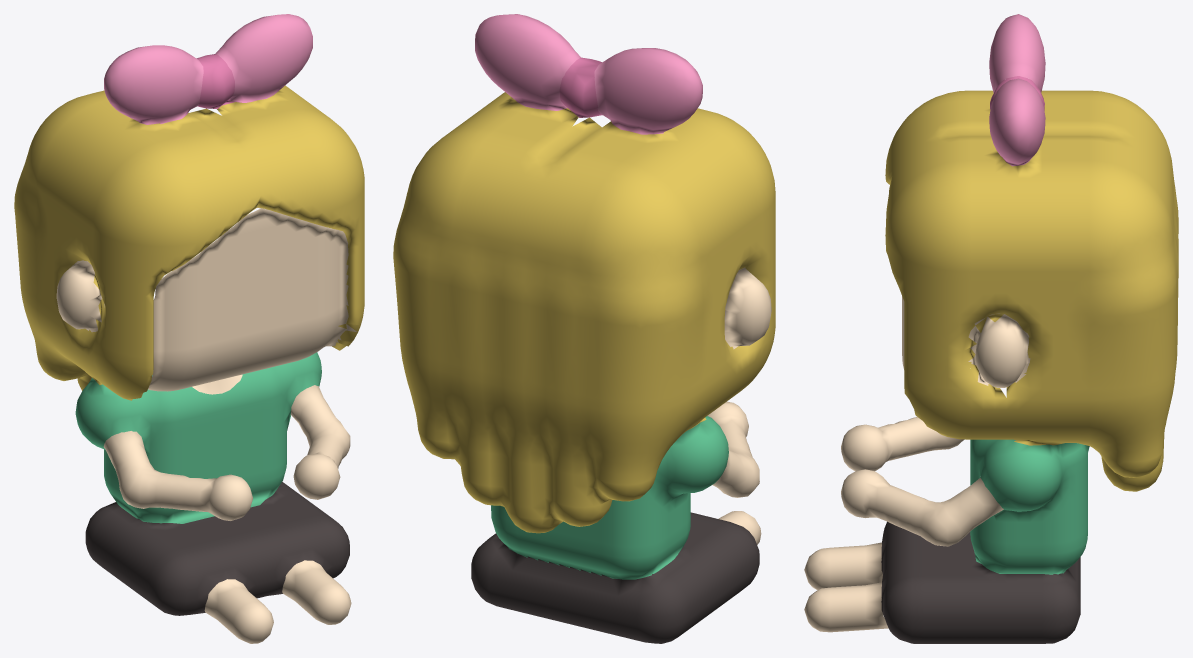
Rendered from girl-low.glb.
The picture shows the model from 3 angles, left to right: view 1: azimuth 30°, elevation 25°; view 2: azimuth 150°, elevation 25°; view 3: azimuth 270°, elevation 25°; orthographic projection. The views are drawn at different scales.
Parts seen in each view (by area): view 1: girl; view 2: girl; view 3: girl.
Part boxes in pixels (box(x1,y1,x2,y2)): girl: box(14, 14, 364, 643); girl: box(393, 14, 775, 643); girl: box(804, 14, 1178, 643).
Bounding box in the file's own units: 1.53 × 2.63 × 1.59.
